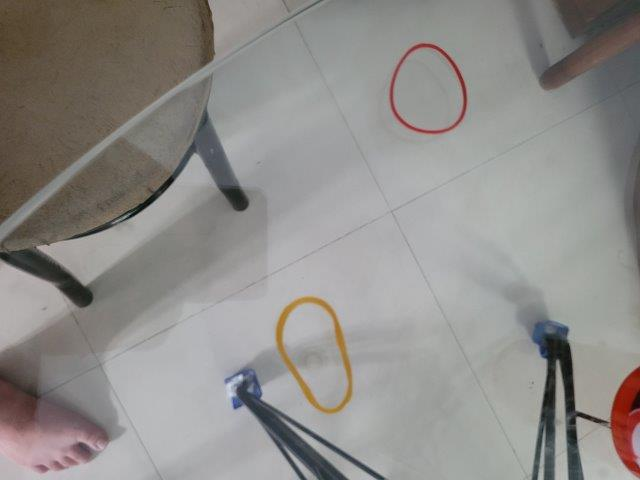karet: (277, 296, 354, 414), (390, 43, 467, 134)
